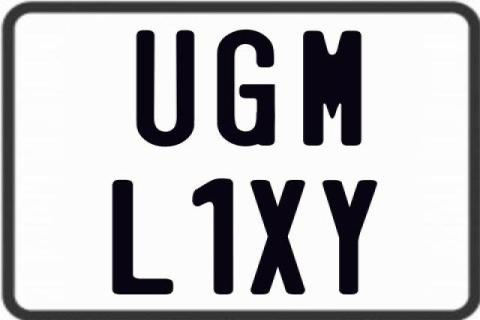0: (190, 177, 234, 293)
G: (215, 29, 278, 151)
L: (110, 180, 176, 299)
M: (300, 29, 359, 149)
U: (133, 30, 195, 150)
X: (248, 180, 307, 298)
Y: (321, 180, 379, 297)
